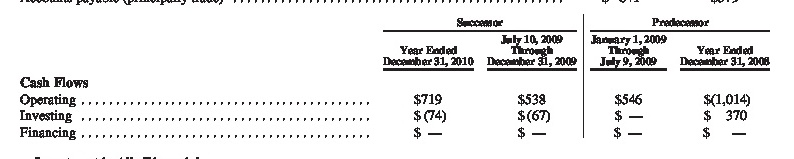table: (0, 0, 794, 159)
